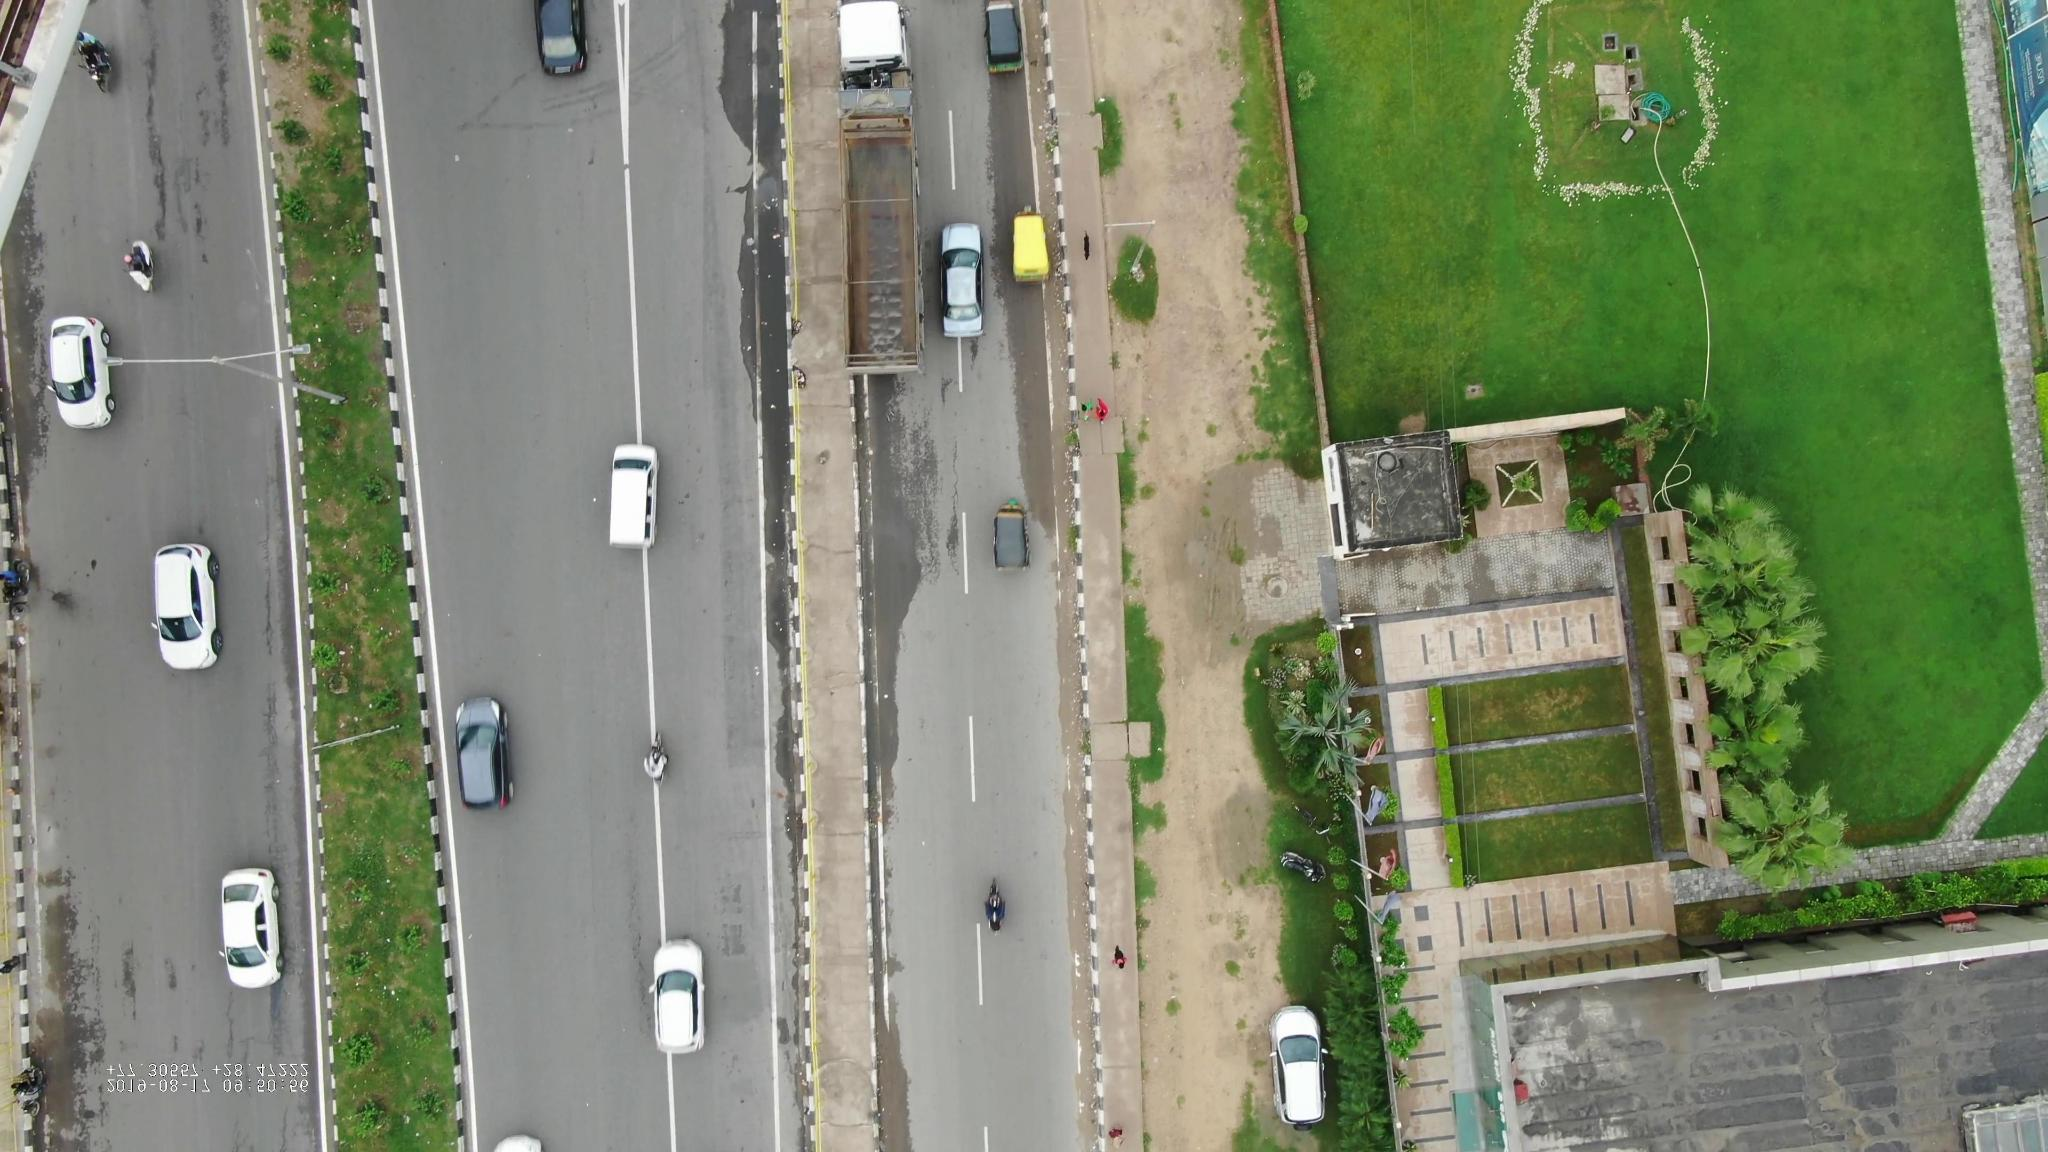Cracks: (937, 436, 973, 606)
Waterlogging: (708, 196, 788, 468)
